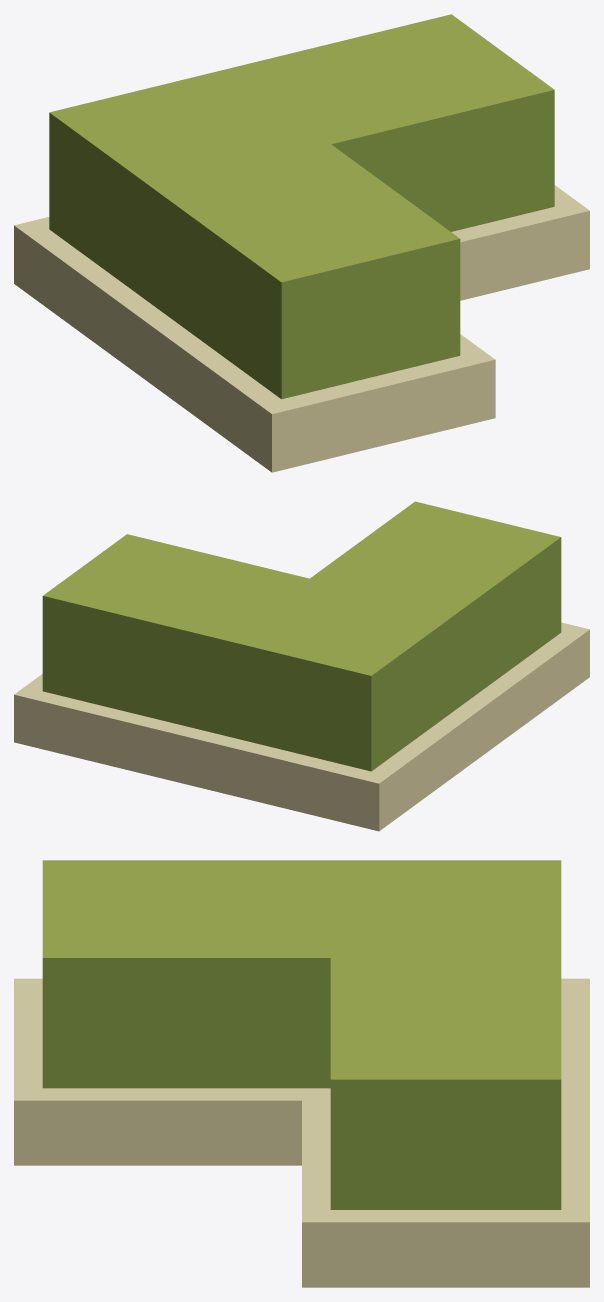
The model's file is hedge-corner.fbx.
The picture shows the model from 3 angles, top to bottom: view 1: azimuth 30°, elevation 25°; view 2: azimuth 150°, elevation 25°; view 3: azimuth 270°, elevation 25°; orthographic projection. The views are drawn at different scales.
Visible parts, largest first — view 1: hedge-corner; view 2: hedge-corner; view 3: hedge-corner.
Boxes of the visible parts, <box> form: hedge-corner: <box>14,14,589,472</box>; hedge-corner: <box>14,501,589,831</box>; hedge-corner: <box>14,860,589,1287</box>.
Size of the model in its own units: 200 by 75 by 200.
